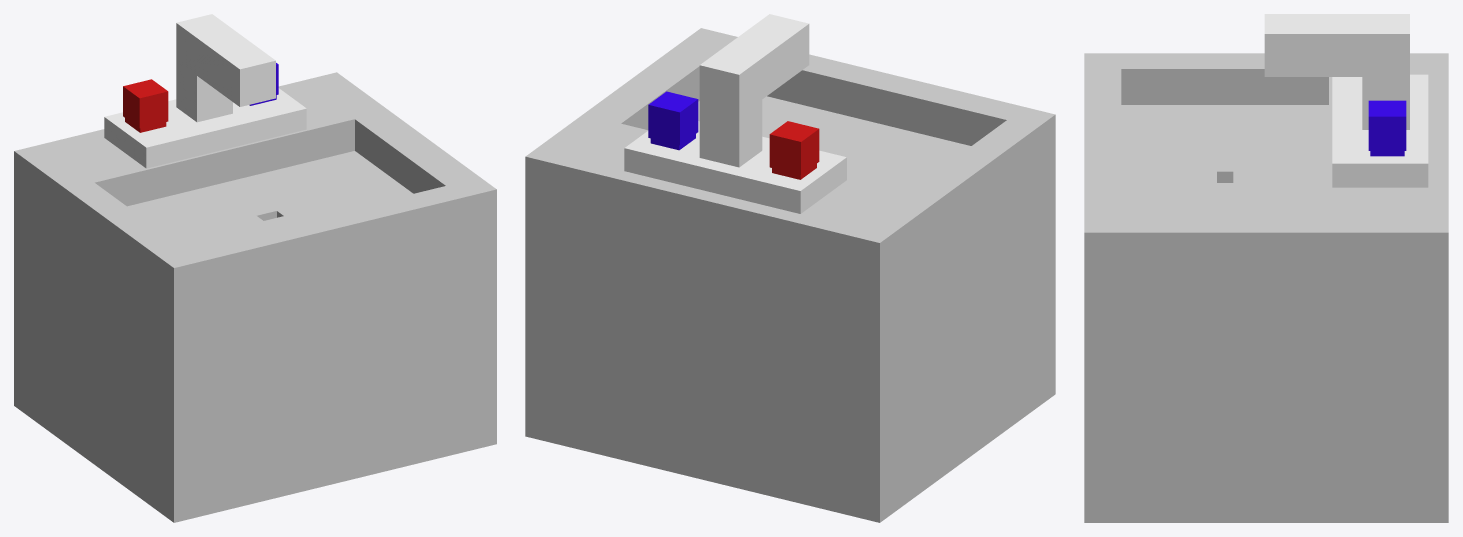
The model's file is KitchenSink.fbx.
3 views of the same model, side by side, from view 1: azimuth 30°, elevation 25°; view 2: azimuth 150°, elevation 25°; view 3: azimuth 270°, elevation 25° (orthographic). The views are drawn at different scales.
Parts seen in each view (by area): view 1: Cube, Cube.001, Cube.005, Cube.002, Cube.004; view 2: Cube, Cube.001, Cube.005, Cube.004, Cube.003, Cube.002; view 3: Cube, Cube.005, Cube.001, Cube.004, Cube.003.
Boxes of the visible parts, x1,y1,x2,y2 form: Cube: [14, 72, 496, 522]; Cube.001: [104, 88, 306, 168]; Cube.005: [176, 14, 275, 106]; Cube.002: [123, 79, 168, 132]; Cube.004: [176, 61, 232, 122]; Cube: [525, 28, 1055, 522]; Cube.001: [624, 121, 846, 213]; Cube.005: [699, 14, 809, 115]; Cube.004: [699, 58, 762, 167]; Cube.003: [648, 91, 698, 150]; Cube.002: [769, 121, 819, 179]; Cube: [1084, 53, 1448, 522]; Cube.005: [1264, 14, 1409, 76]; Cube.001: [1332, 74, 1428, 187]; Cube.004: [1362, 34, 1409, 129]; Cube.003: [1368, 100, 1406, 156].
Size of the model in its own units: 400 by 426 by 343.
